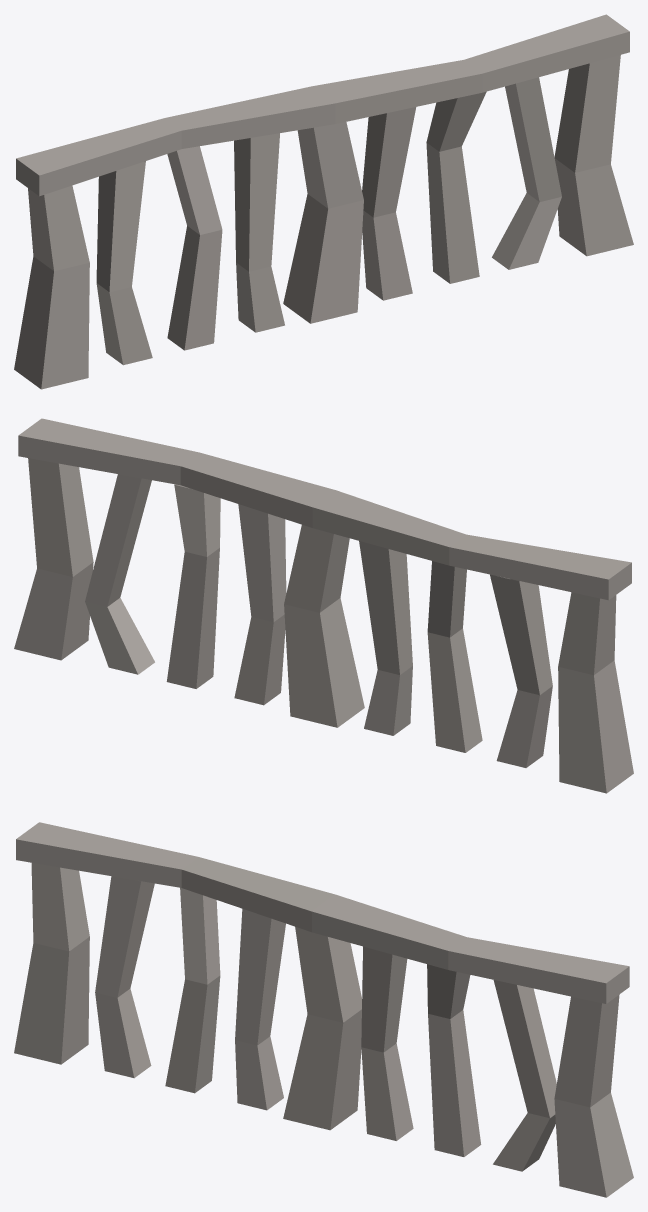
The model's file is Fence_01.FBX.
3 renders of one model, top to bottom at view 1: azimuth 30°, elevation 25°; view 2: azimuth 150°, elevation 25°; view 3: azimuth 330°, elevation 25°, orthographic.
Parts seen in each view (by area): view 1: Fence_01; view 2: Fence_01; view 3: Fence_01.
Boxes of the visible parts, x1,y1,x2,y2 form: Fence_01: (14, 14, 633, 389); Fence_01: (14, 418, 633, 793); Fence_01: (14, 822, 633, 1197).
Size of the model in its own units: 3.23 by 1.11 by 0.324.
